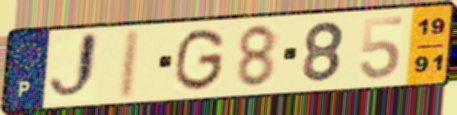5: (357, 15, 405, 82)
8: (236, 22, 281, 90), (300, 19, 346, 85)
G: (171, 26, 228, 93)
I: (115, 27, 144, 102)
J: (46, 29, 102, 105)
